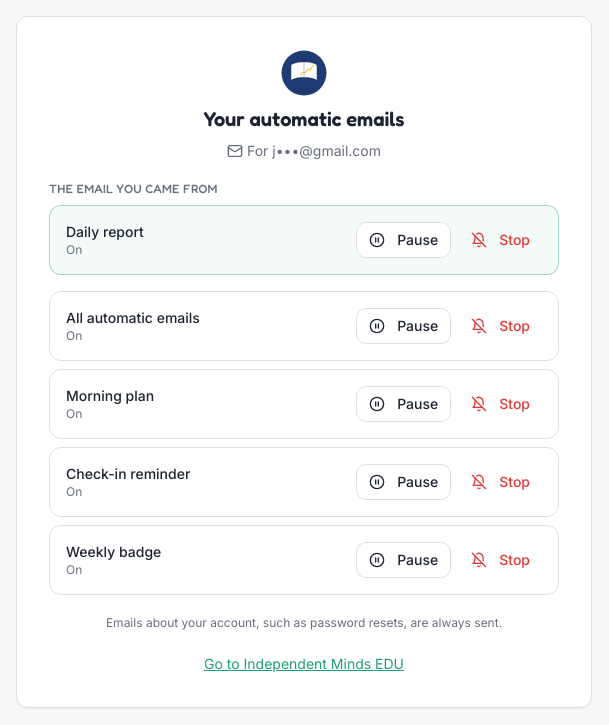
Scenario: NotificationPreferences page › Stop sends a POST for that category and re-renders from the reply
The width and height of the screenshot is (609, 725).
Expected: the element with test id "pref-row-daily_report" is shown, [49,205,559,275]
Click the button with test id "pref-stop-daily_report".
click(501, 240)  # box [459,222,542,258]
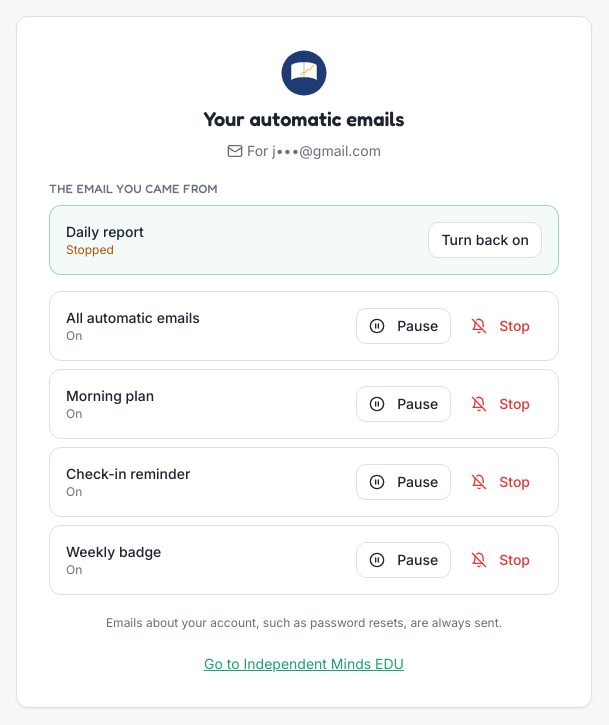
Now the button with test id "pref-on-daily_report" is shown, box [428,222,542,258]
